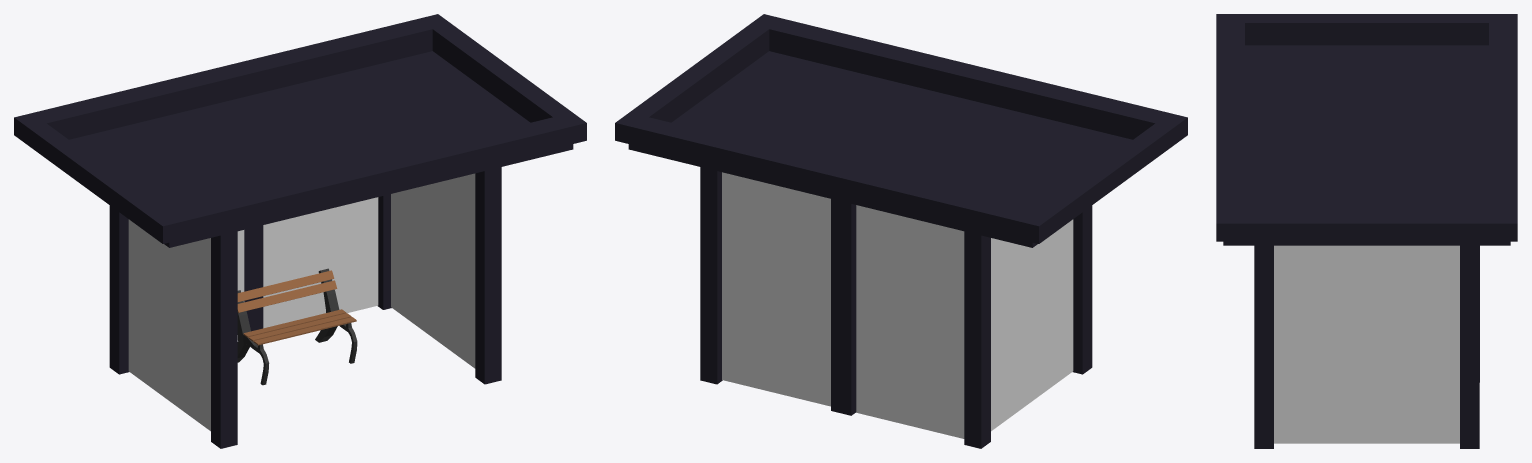
Rendered from Busstop with bench.fbx.
The picture shows the model from 3 angles, left to right: view 1: azimuth 30°, elevation 25°; view 2: azimuth 150°, elevation 25°; view 3: azimuth 270°, elevation 25°; orthographic projection.
Visible parts, largest first — view 1: Busstop frame, Plane.001; view 2: Busstop frame; view 3: Busstop frame.
Boxes of the visible parts, left/top/right/bottom form: Busstop frame: left=14, top=14, right=586, bottom=448; Plane.001: left=237, top=268, right=357, bottom=385; Busstop frame: left=615, top=14, right=1187, bottom=448; Busstop frame: left=1216, top=14, right=1517, bottom=448.
Bounding box in the file's own units: 482 × 277 × 293.
